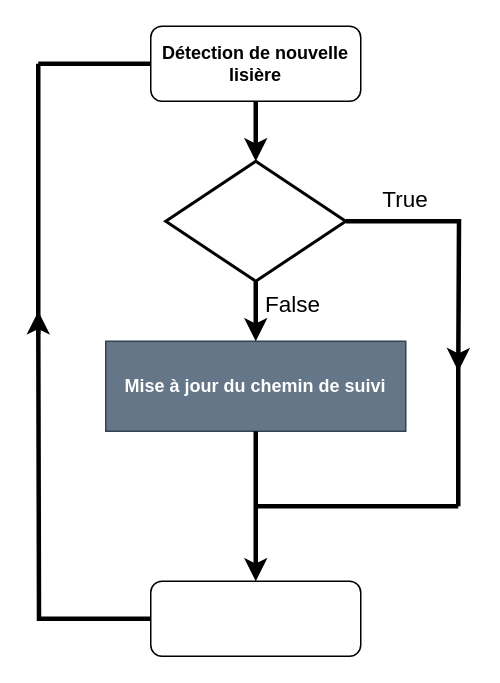
This 500x683 diagram has some shape labels left out. Each missing label, with the centre of its shape:
"Envoi du chemin" goes at point (255, 618).
"Long(t) < Long(t-1)/2" goes at point (255, 220).
